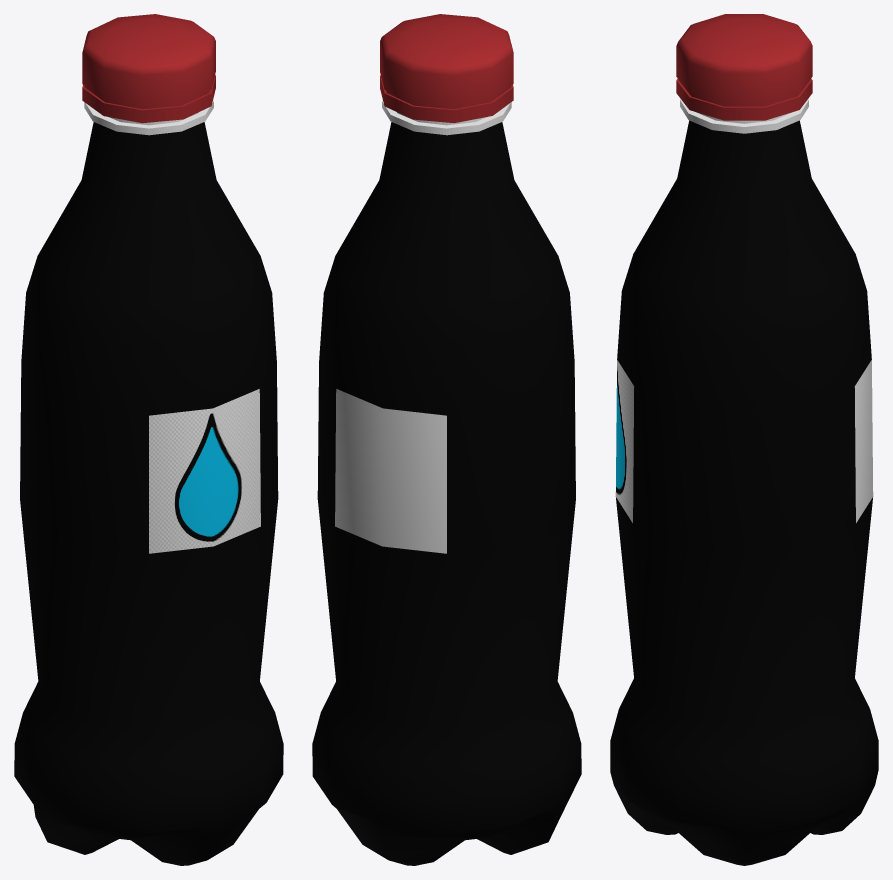
Rendered from Botella pequeña.fbx.
3 renders of one model, left to right at view 1: azimuth 30°, elevation 25°; view 2: azimuth 150°, elevation 25°; view 3: azimuth 270°, elevation 25°, orthographic.
Visible parts, largest first — view 1: Botella pequeña de refresco; view 2: Botella pequeña de refresco; view 3: Botella pequeña de refresco.
Part boxes in pixels (left/top/right/bottom): Botella pequeña de refresco: left=14, top=14, right=283, bottom=865; Botella pequeña de refresco: left=312, top=14, right=581, bottom=865; Botella pequeña de refresco: left=610, top=14, right=878, bottom=865.
Bounding box in the file's own units: 6.07 × 19.98 × 6.06.
Materials: 3 (1 with a texture image).
